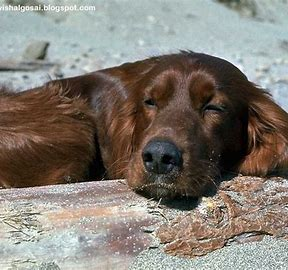dog: (8, 54, 287, 220)
